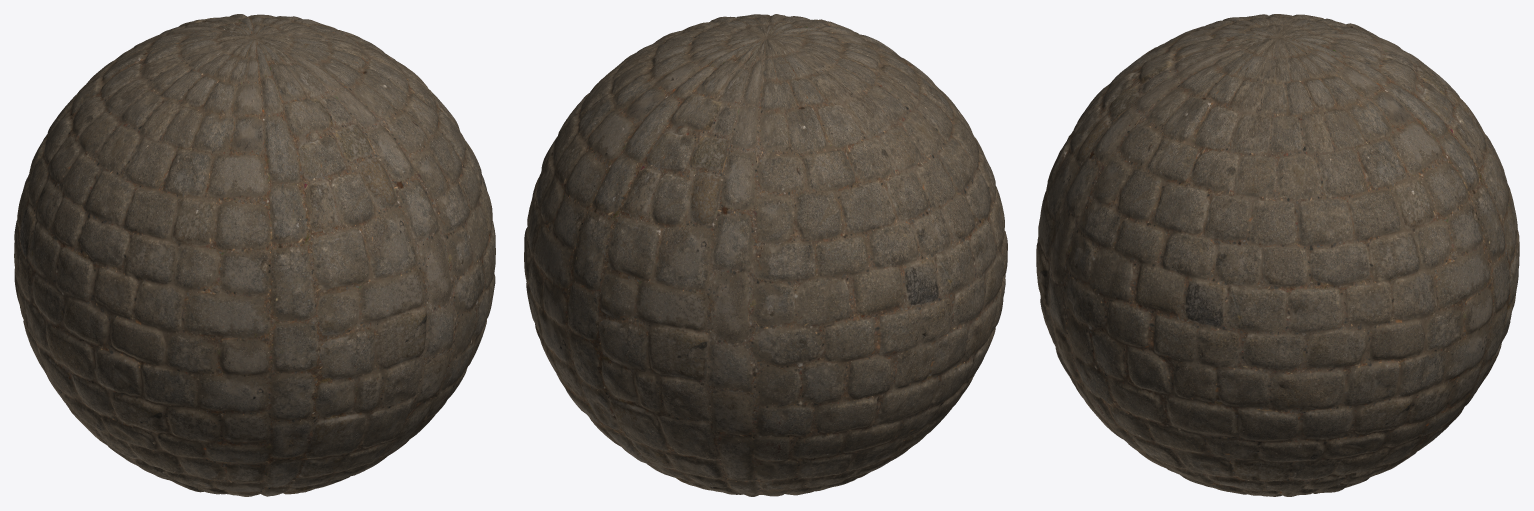
The model's file is cobblestone_floor_09_2k.gltf.
3 renders of one model, left to right at view 1: azimuth 30°, elevation 25°; view 2: azimuth 150°, elevation 25°; view 3: azimuth 270°, elevation 25°, orthographic.
Parts seen in each view (by area): view 1: sphere_gltf; view 2: sphere_gltf; view 3: sphere_gltf.
Part boxes in pixels (x1=…): sphere_gltf: x1=14, y1=14, x2=495, y2=496; sphere_gltf: x1=524, y1=14, x2=1007, y2=496; sphere_gltf: x1=1036, y1=14, x2=1519, y2=496.
Bounding box in the file's own units: 2.18 × 2.19 × 2.18.
1 material, 1 textured.
